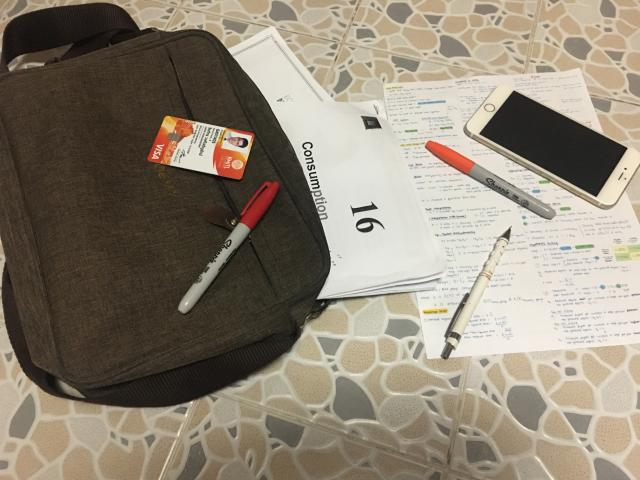Mobile phone: (464, 85, 640, 209)
Pen: (178, 181, 280, 314), (425, 141, 556, 219), (441, 228, 511, 359)
paper: (384, 70, 640, 359), (230, 28, 445, 299)
